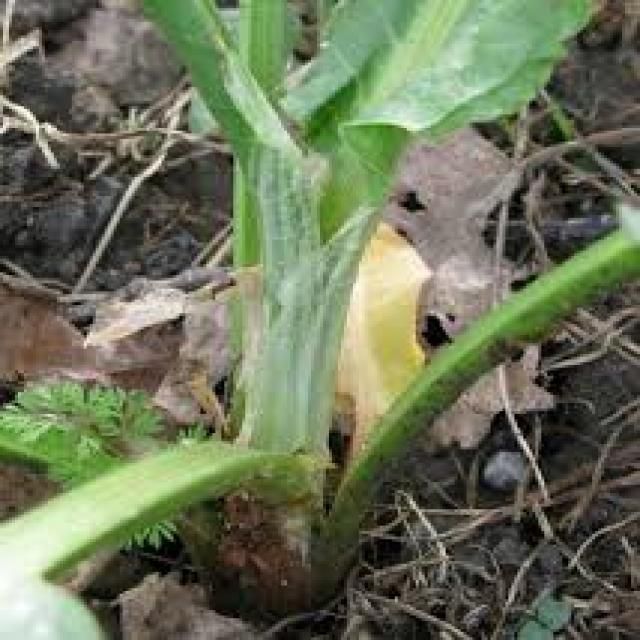organic waste: (147, 0, 634, 286)
